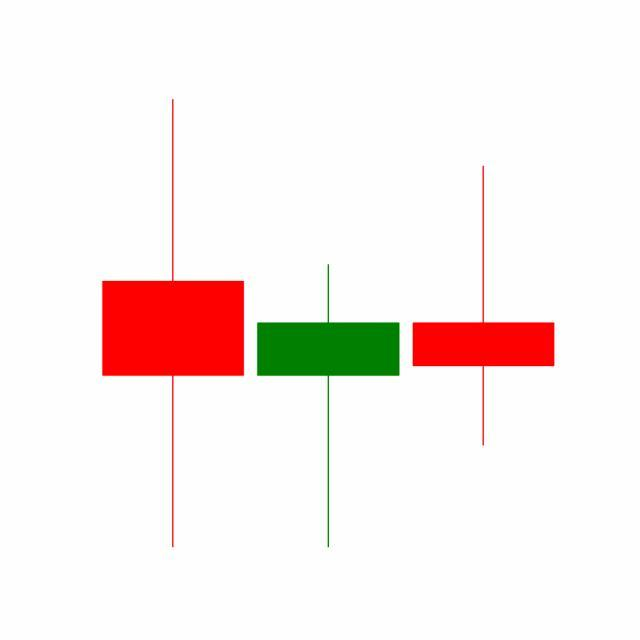Spinning Top: (406, 163, 562, 450)
